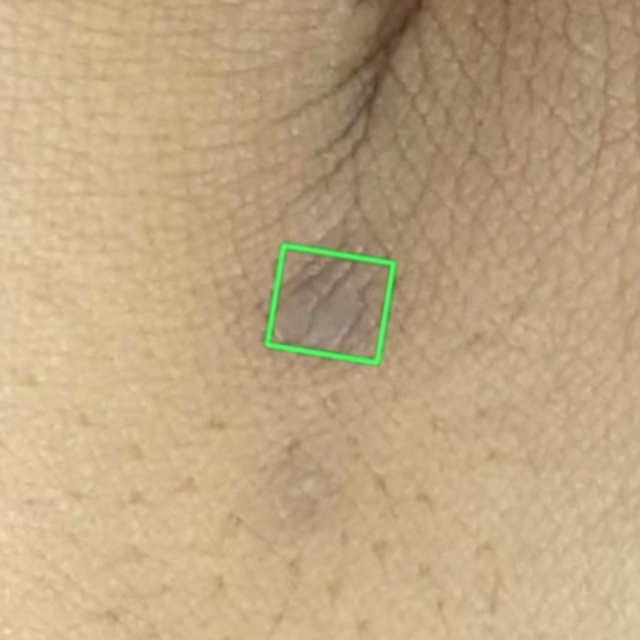Scabies: (267, 245, 393, 363)
